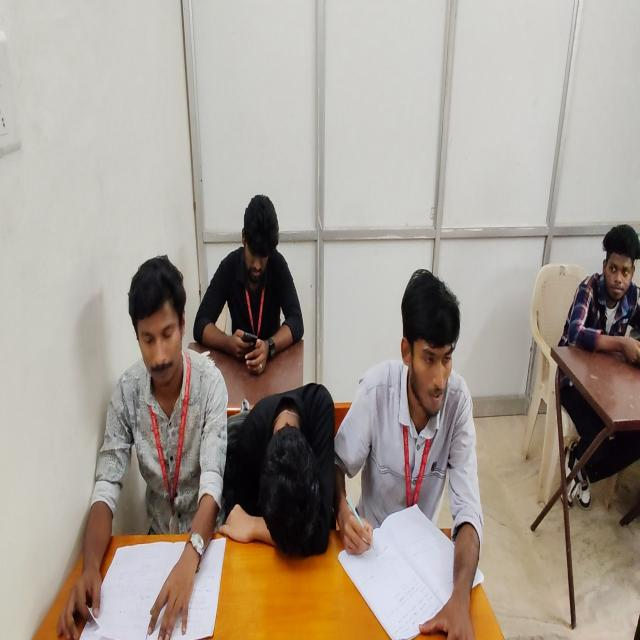listening: (59, 254, 231, 640), (555, 220, 639, 510)
sleeping: (220, 381, 332, 560)
using_mobile: (192, 193, 306, 372)
writing: (333, 266, 486, 640)
